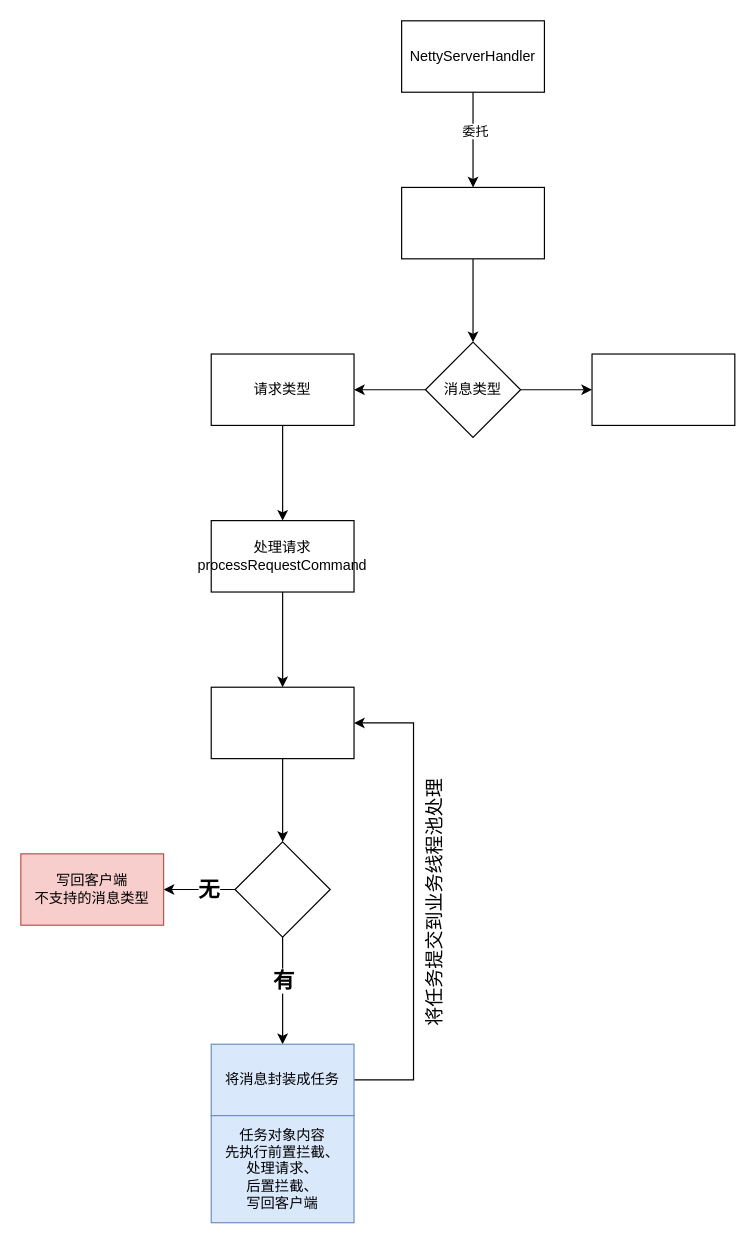
This 756x1244 diagram has some shape labels left out. The shapes that lost their labels are listed below. From the top down, each one's centre as x and y in pixels, then its label:
(472,222): NettyRemotingAbstract#processMessageReceived
(663,389): 响应类型
(282,722): 根据消息类型寻找处理器、线程池
(282,889): 有无对应的处理器？
